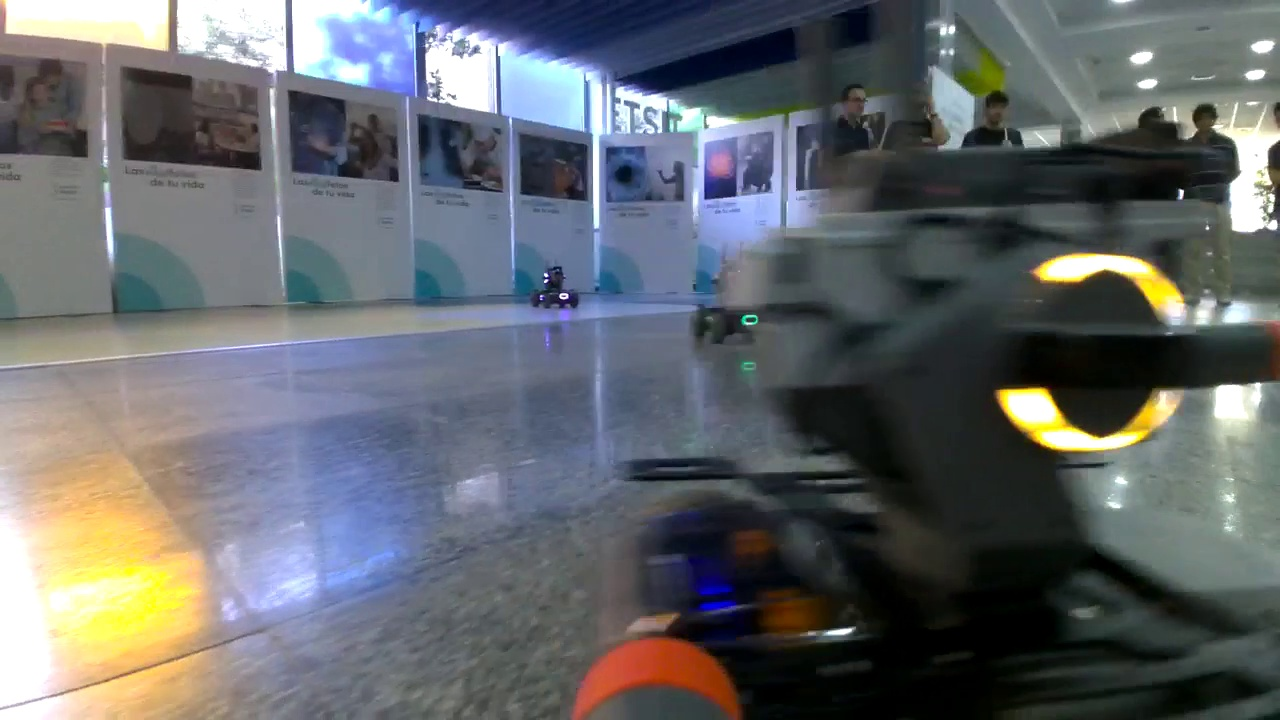robot: (572, 157, 1280, 720)
